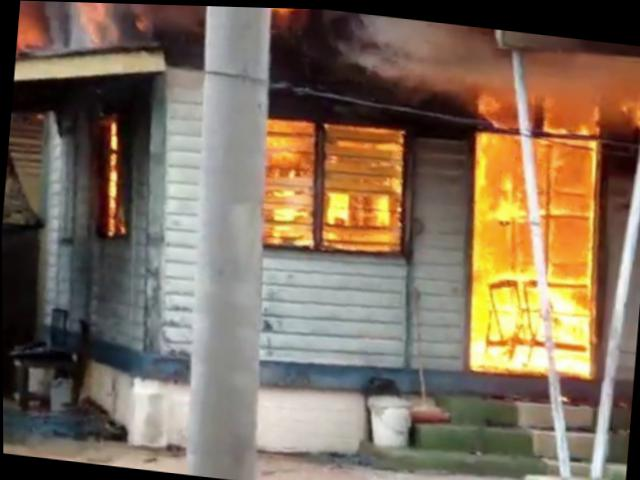fire: (450, 63, 619, 383), (251, 108, 414, 257), (92, 119, 136, 236), (68, 2, 144, 48)
